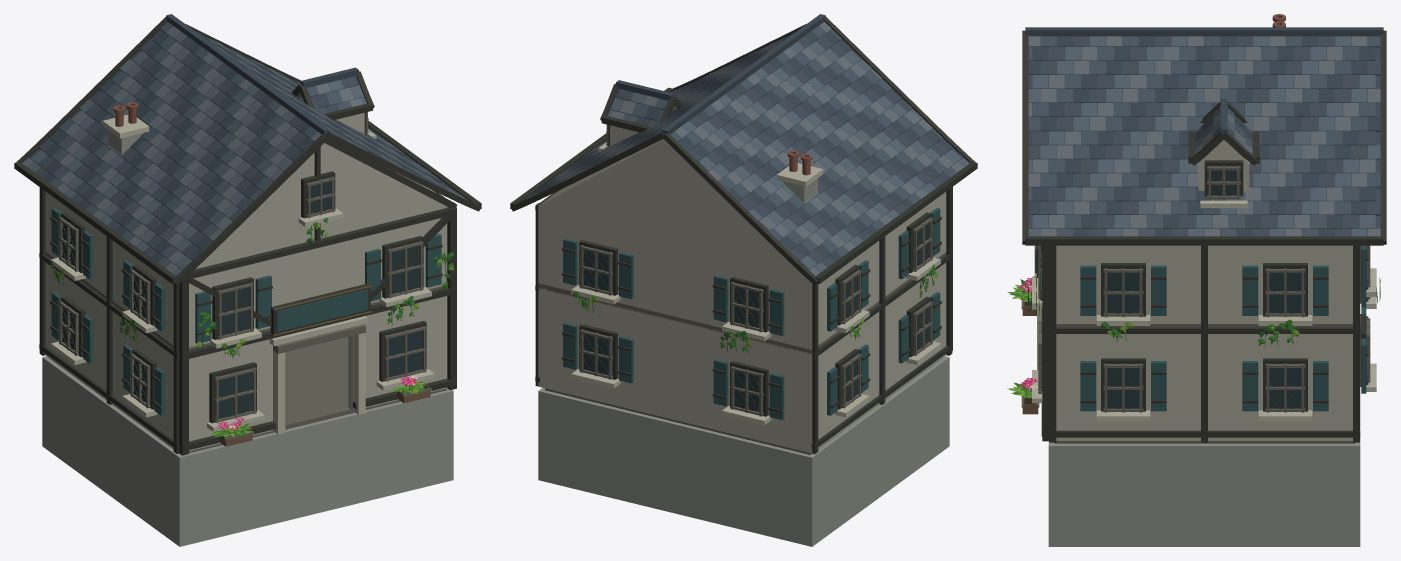
The model's file is village_library.glb.
The picture shows the model from 3 angles, left to right: view 1: azimuth 30°, elevation 25°; view 2: azimuth 150°, elevation 25°; view 3: azimuth 270°, elevation 25°; orthographic projection. The views are drawn at different scales.
Parts seen in each view (by area): view 1: village_library; view 2: village_library; view 3: village_library.
Part boxes in pixels (x1,y1,x2,y2): village_library: (14, 14, 481, 546); village_library: (510, 14, 977, 546); village_library: (1007, 14, 1386, 546).
Size of the model in its own units: 10.38 by 12.54 by 9.77.
